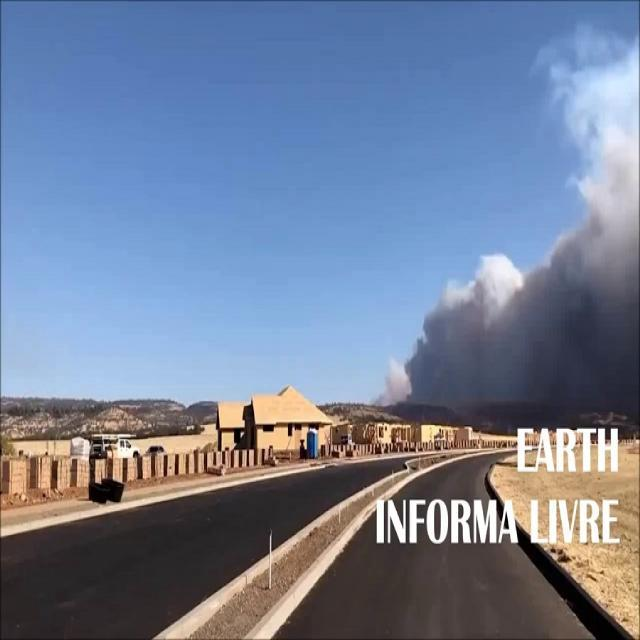Smoke: (541, 6, 640, 427), (376, 213, 544, 416)
